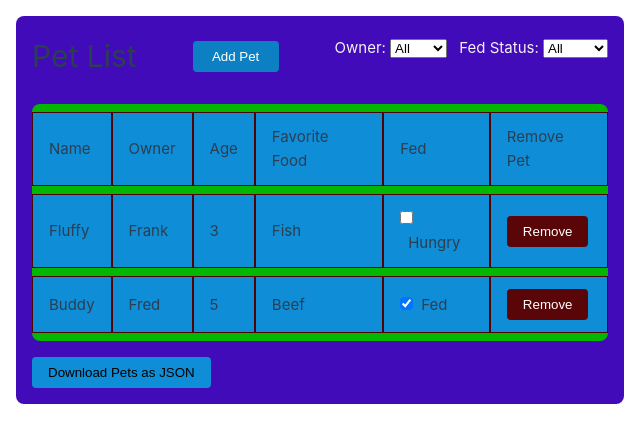
Test case: PetList.vue › can filter by fed status
The image size is (641, 421).
Select "Fed" in the dropdown labelled "Fed Status:" at (576, 48), box [543,39,608,58]
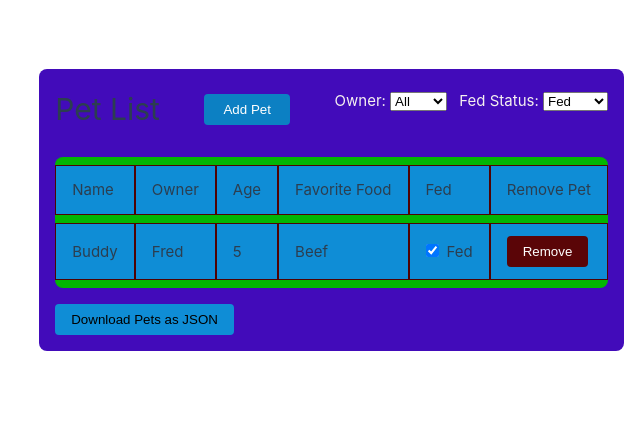
Expected: the text "Buddy" is shown, [55,223,135,280]
Expected: the text "Fluffy" is gone
Select "Hungry" in the dropdown labelled "Fed Status:" at (576, 102), box [543,92,608,111]
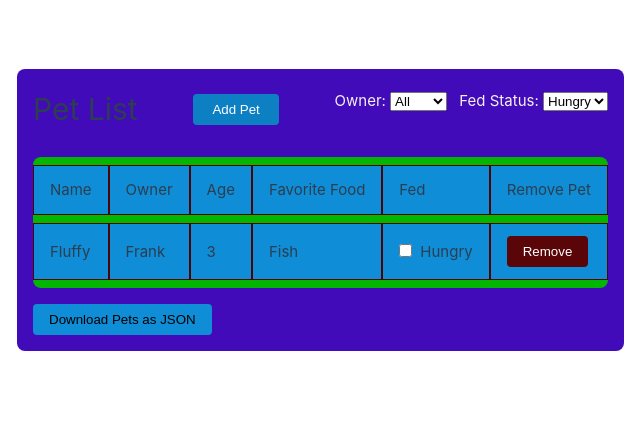
Expected: the text "Fluffy" is shown, [33,223,109,280]
Expected: the text "Buddy" is gone
